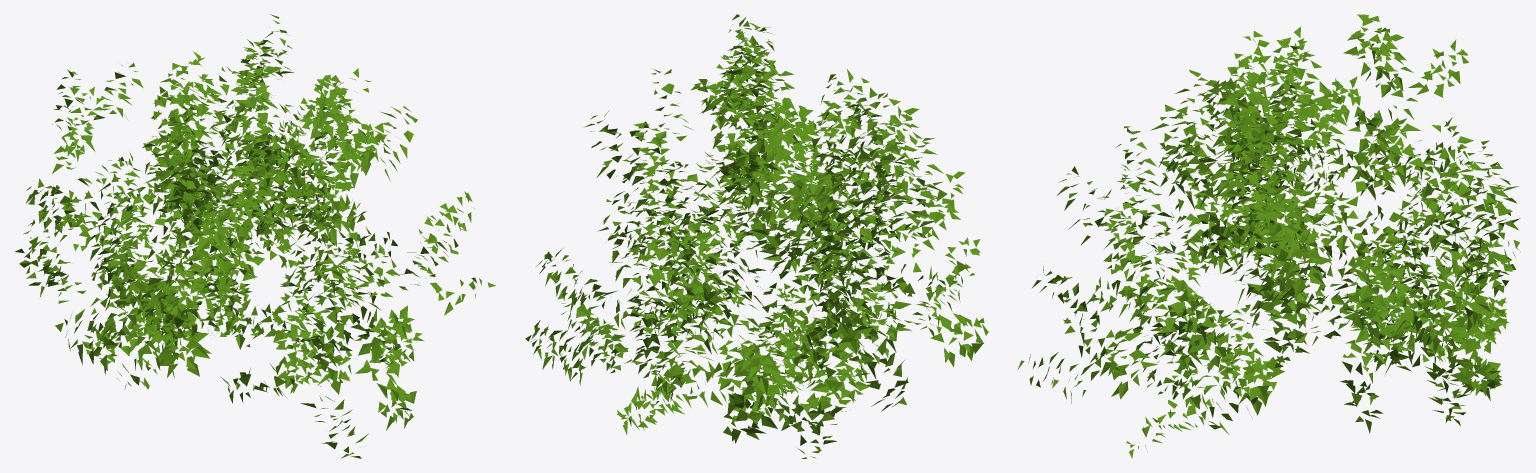
File: leaves.obj
3 renders of one model, left to right at view 1: azimuth 30°, elevation 25°; view 2: azimuth 150°, elevation 25°; view 3: azimuth 270°, elevation 25°, orthographic. The views are drawn at different scales.
Size of the model in its own units: 1561 by 1555 by 1673.
